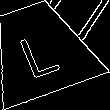L_N: (15, 21, 64, 78)
